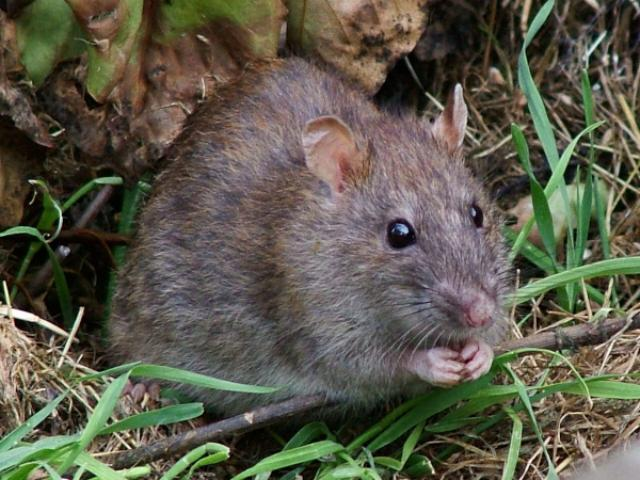rat: (74, 41, 512, 400)
